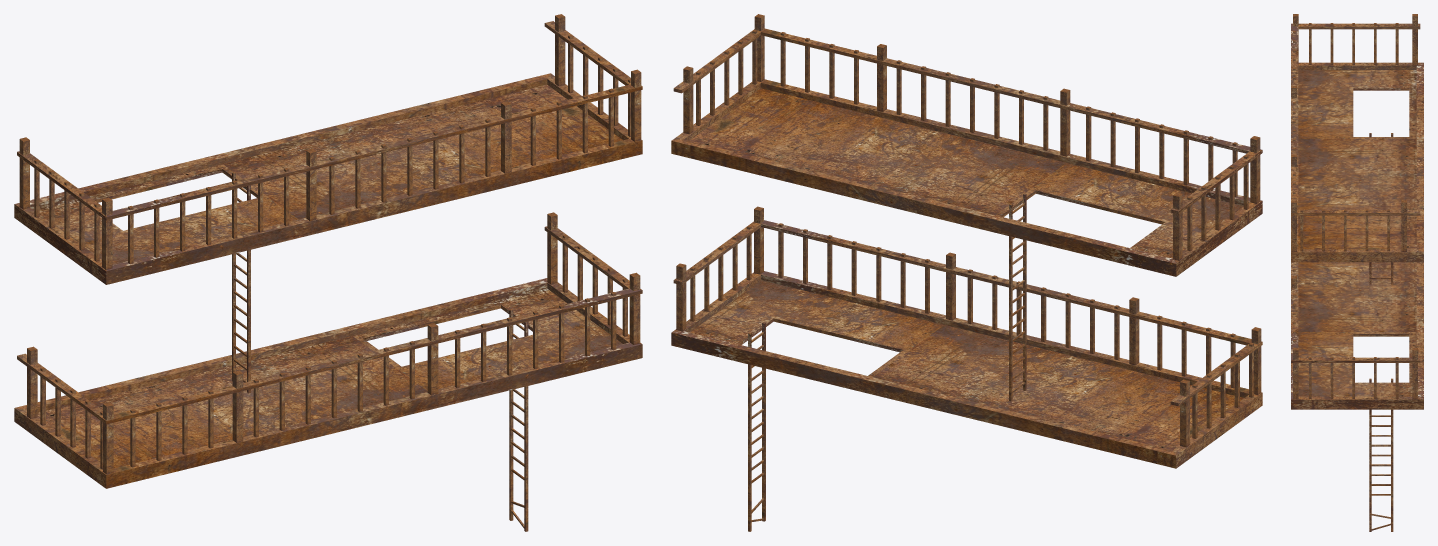
Rendered from fire_escape_01.fbx.
The picture shows the model from 3 angles, left to right: view 1: azimuth 30°, elevation 25°; view 2: azimuth 150°, elevation 25°; view 3: azimuth 270°, elevation 25°; orthographic projection. The views are drawn at different scales.
Visible parts, largest first — view 1: fire_escape_01; view 2: fire_escape_01; view 3: fire_escape_01.
Part boxes in pixels (x1,y1,x2,y2): fire_escape_01: (14,14,642,531); fire_escape_01: (671,14,1262,531); fire_escape_01: (1291,14,1423,531).
Bounding box in the file's own units: 8.26 × 7.12 × 2.45.
